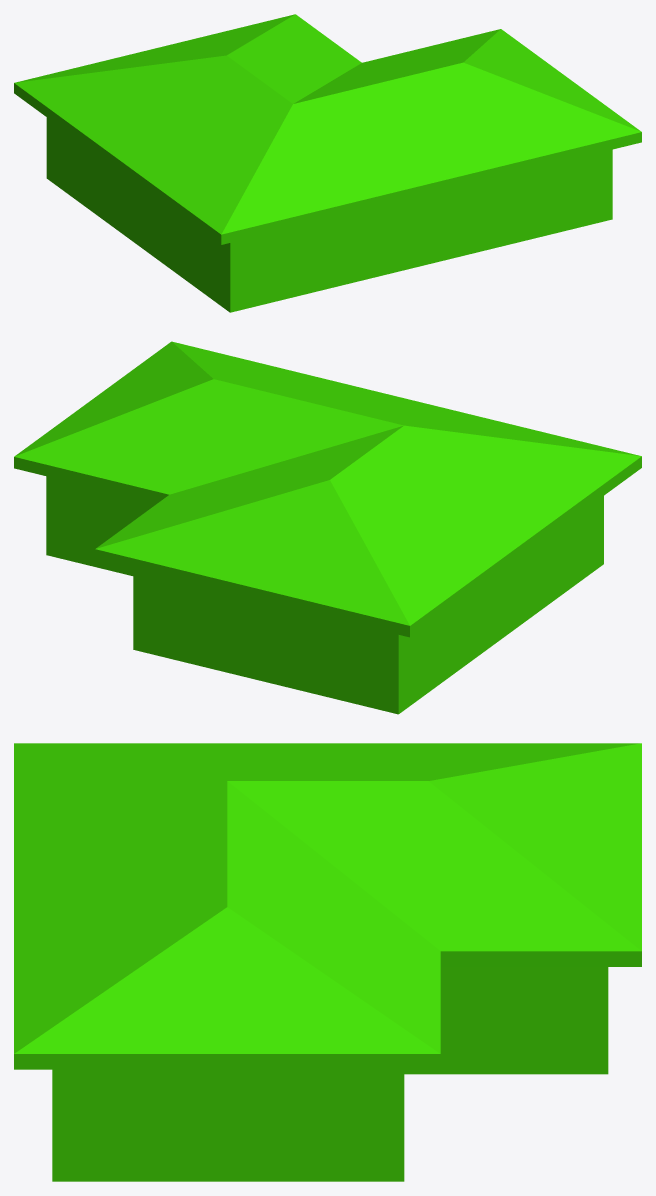
Rendered from House.glb.
The picture shows the model from 3 angles, top to bottom: view 1: azimuth 30°, elevation 25°; view 2: azimuth 150°, elevation 25°; view 3: azimuth 270°, elevation 25°; orthographic projection. The views are drawn at different scales.
Parts seen in each view (by area): view 1: Cube; view 2: Cube; view 3: Cube.
Boxes of the visible parts, box(x1,y1,x2,y2) form: Cube: box(14, 14, 641, 312); Cube: box(14, 341, 641, 714); Cube: box(14, 743, 641, 1181).
Size of the model in its own units: 12.79 by 3.98 by 10.92.
